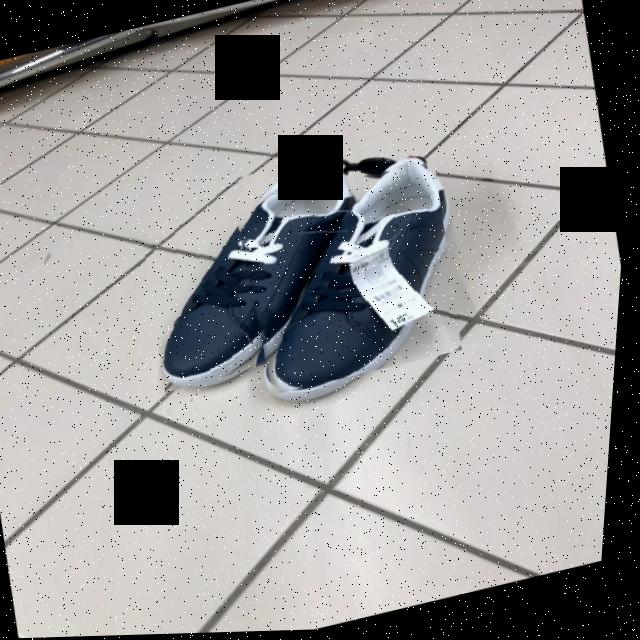shoe: (163, 159, 347, 390), (272, 167, 444, 392)
